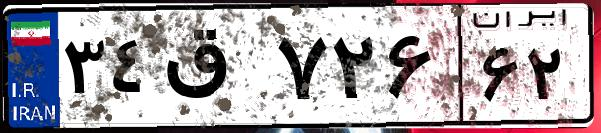2: (330, 28, 385, 110), (525, 38, 570, 115)
3: (57, 26, 110, 100)
4: (110, 28, 158, 98)
6: (385, 28, 445, 110), (475, 38, 525, 113)
7: (270, 28, 330, 110)
ق: (158, 20, 270, 120)
